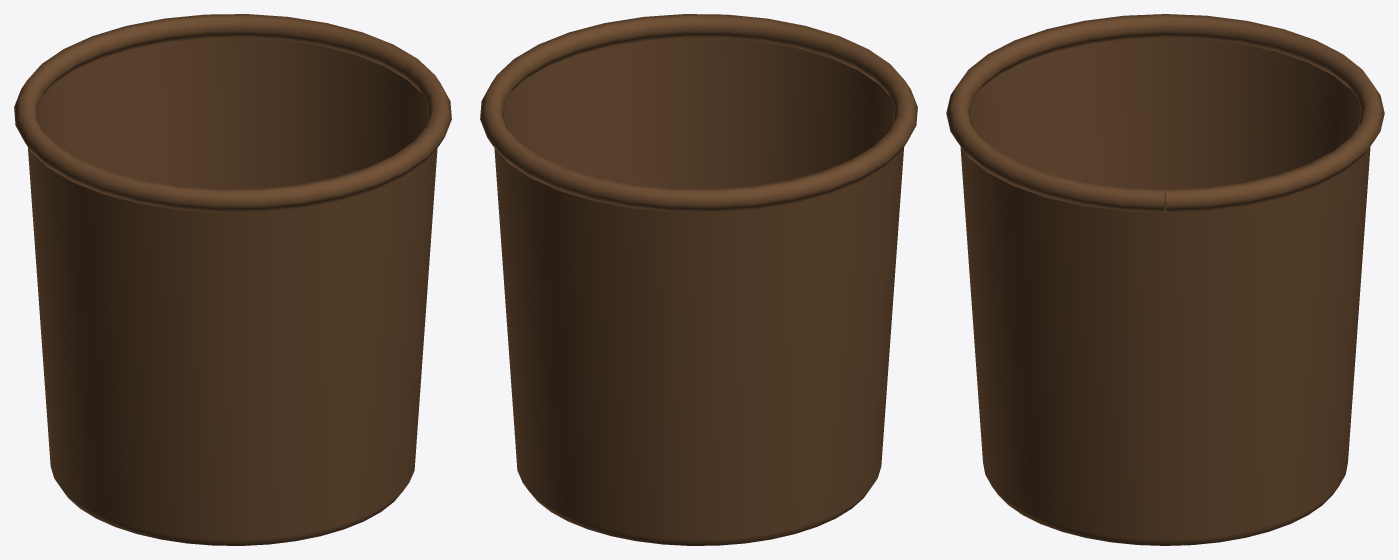
Rendered from BIB-BSK-std.glb.
The picture shows the model from 3 angles, left to right: view 1: azimuth 30°, elevation 25°; view 2: azimuth 150°, elevation 25°; view 3: azimuth 270°, elevation 25°; orthographic projection.
Visible parts, largest first — view 1: BIB-BSK-std; view 2: BIB-BSK-std; view 3: BIB-BSK-std.
Boxes of the visible parts, box(x1,y1,x2,y2) form: BIB-BSK-std: box(14, 14, 451, 545); BIB-BSK-std: box(480, 14, 917, 545); BIB-BSK-std: box(946, 14, 1384, 545).
Size of the model in its own units: 0.4439 by 0.4104 by 0.444.
